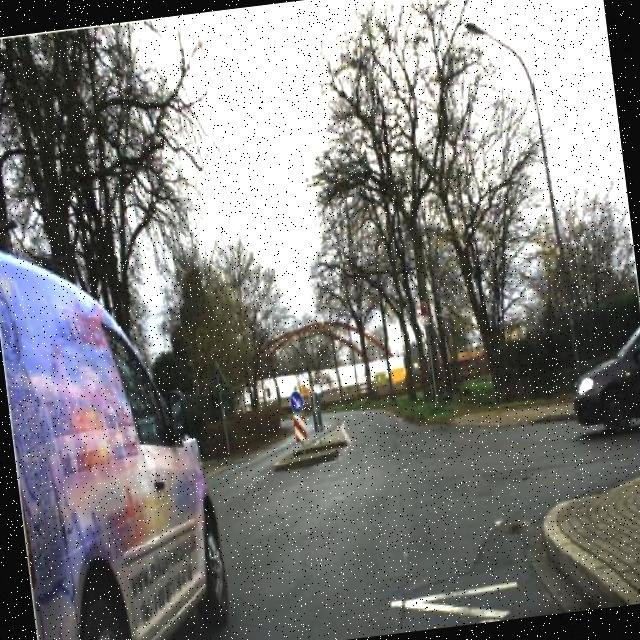Zakaz zatrzymywania sie: (416, 298, 431, 320)
